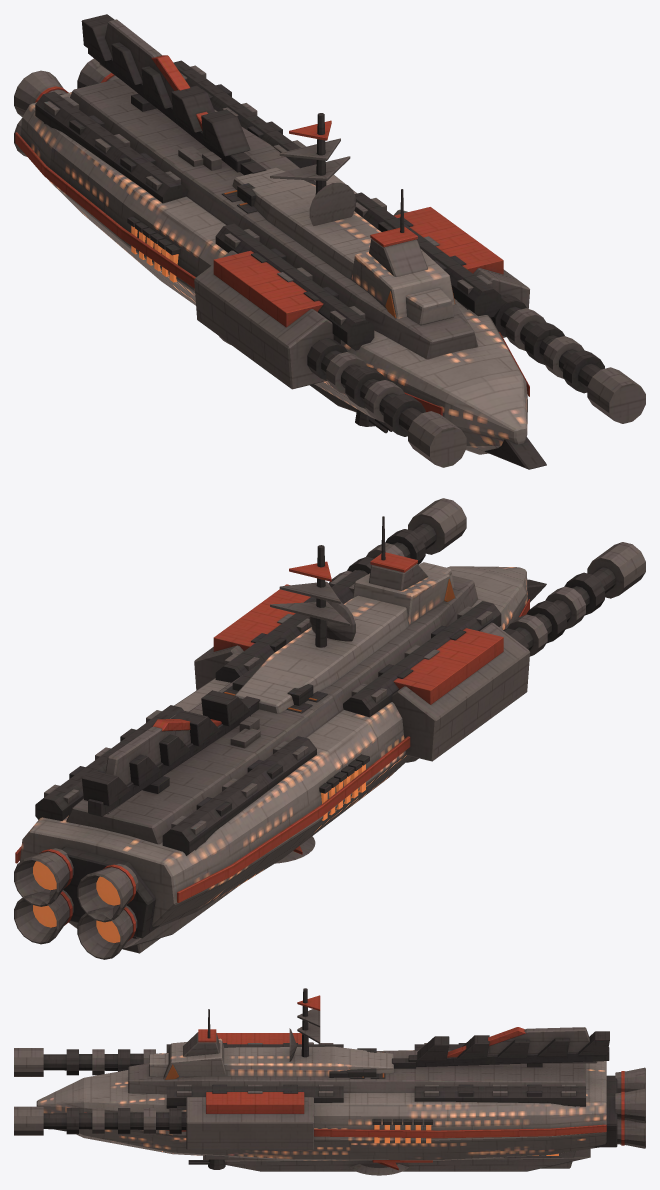
File: vashkar_destroyer.glb
3 renders of one model, top to bottom at view 1: azimuth 30°, elevation 25°; view 2: azimuth 150°, elevation 25°; view 3: azimuth 270°, elevation 25°, orthographic. The views are drawn at different scales.
Parts seen in each view (by area): view 1: HULL, SYS_WPN2, SYS_WPN1, SYS_BUS_F, SYS_BUS_A, SYS_BRIDGE, SYS_SENSORS, SYS_DRIVE, SYS_REACTOR; view 2: HULL, SYS_WPN2, SYS_DRIVE, SYS_BUS_A, SYS_WPN1, SYS_BUS_F, SYS_BRIDGE, SYS_SENSORS, SYS_REACTOR; view 3: HULL, SYS_WPN1, SYS_WPN2, SYS_BUS_A, SYS_DRIVE, SYS_BUS_F, SYS_BRIDGE, SYS_SENSORS, SYS_REACTOR, SYS_DAMP, SYS_JUMP, SYS_PD.
Part boxes in pixels (x1=…): HULL: x1=15, y1=14, x2=546, y2=469; SYS_WPN2: x1=194, y1=250, x2=466, y2=467; SYS_WPN1: x1=393, y1=207, x2=645, y2=423; SYS_BUS_F: x1=215, y1=192, x2=501, y2=350; SYS_BUS_A: x1=35, y1=60, x2=316, y2=203; SYS_BRIDGE: x1=351, y1=189, x2=455, y2=318; SYS_SENSORS: x1=270, y1=113, x2=355, y2=225; SYS_DRIVE: x1=14, y1=58, x2=118, y2=156; SYS_REACTOR: x1=127, y1=216, x2=180, y2=282; HULL: x1=15, y1=562, x2=546, y2=948; SYS_WPN2: x1=391, y1=542, x2=645, y2=761; SYS_DRIVE: x1=14, y1=847, x2=159, y2=959; SYS_BUS_A: x1=35, y1=705, x2=316, y2=855; SYS_WPN1: x1=194, y1=498, x2=466, y2=690; SYS_BUS_F: x1=215, y1=570, x2=501, y2=717; SYS_BRIDGE: x1=353, y1=516, x2=455, y2=624; SYS_SENSORS: x1=270, y1=545, x2=355, y2=647; SYS_REACTOR: x1=319, y1=754, x2=369, y2=820; HULL: x1=36, y1=1027, x2=609, y2=1171; SYS_WPN1: x1=14, y1=1092, x2=313, y2=1149; SYS_WPN2: x1=14, y1=1033, x2=313, y2=1076; SYS_BUS_A: x1=414, y1=1043, x2=585, y2=1106; SYS_DRIVE: x1=595, y1=1067, x2=645, y2=1148; SYS_BUS_F: x1=166, y1=1043, x2=343, y2=1109; SYS_BRIDGE: x1=163, y1=1009, x2=225, y2=1079; SYS_SENSORS: x1=289, y1=988, x2=320, y2=1061; SYS_REACTOR: x1=372, y1=1119, x2=432, y2=1162; SYS_DAMP: x1=349, y1=1160, x2=408, y2=1175; SYS_JUMP: x1=504, y1=1151, x2=575, y2=1168; SYS_PD: x1=188, y1=1155, x2=228, y2=1169.
Bounding box in the file's own units: 14.57 × 15.15 × 48.97.
1 material, 1 textured.
